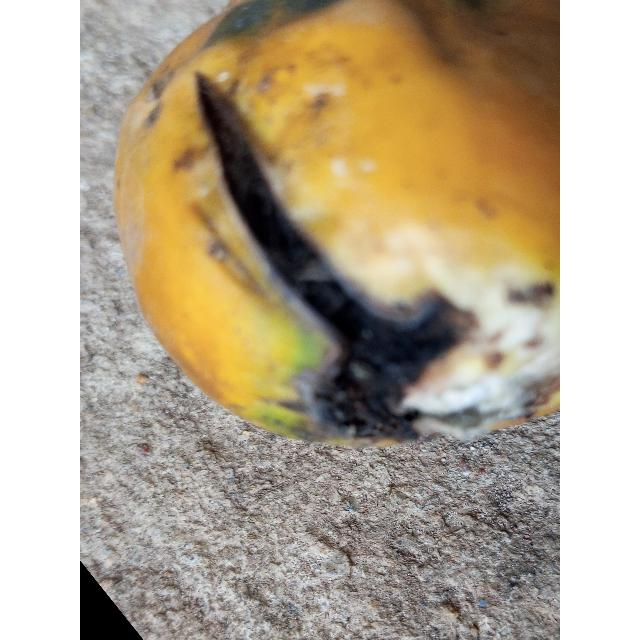damaged: (113, 0, 560, 448)
